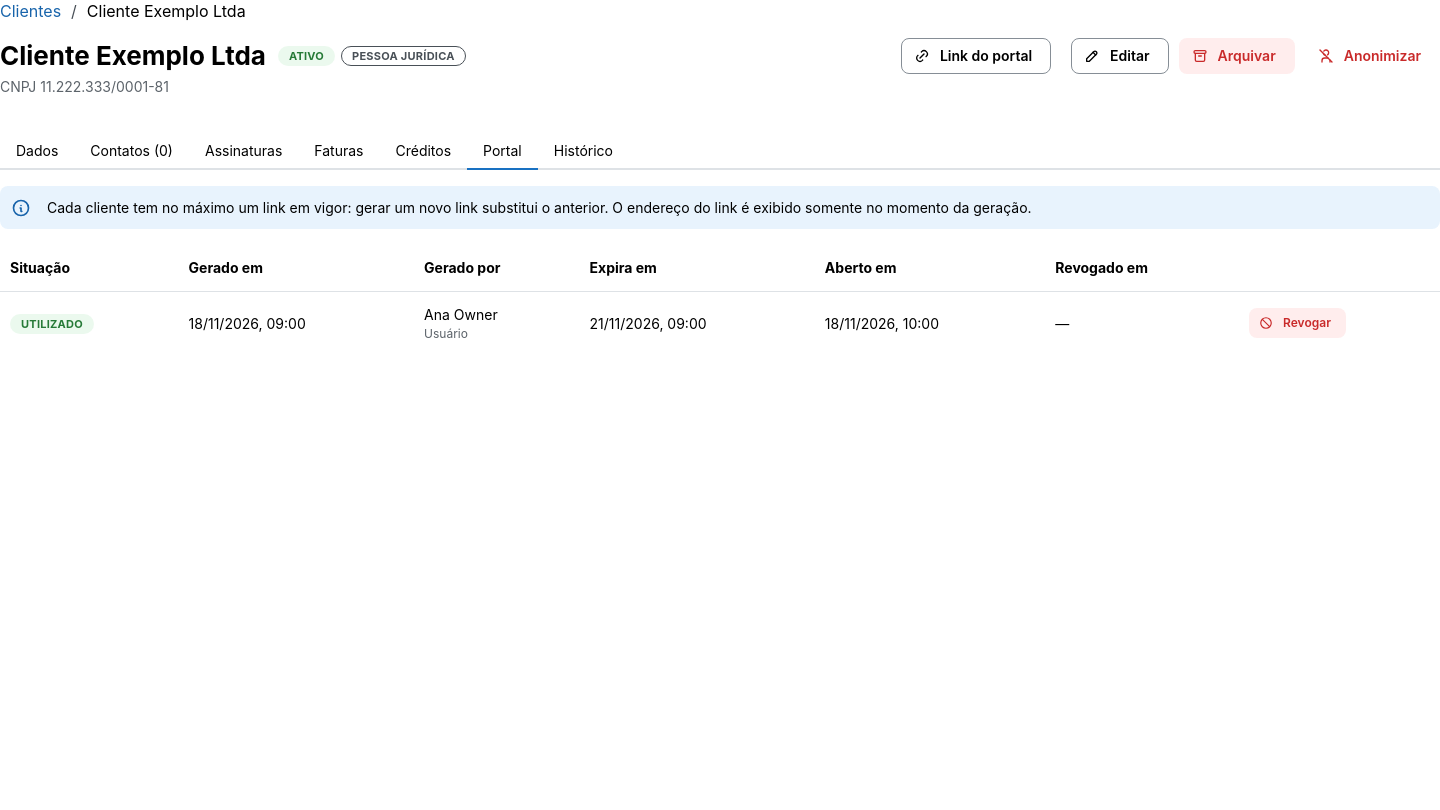
Test: links do portal na ficha do cliente › revoga somente depois da confirmação e recarrega a lista
Note: Cancelar a confirmação não envia nada.
Click the button "Revogar".
click(1297, 323)  # box left=1249, top=308, right=1346, bottom=338
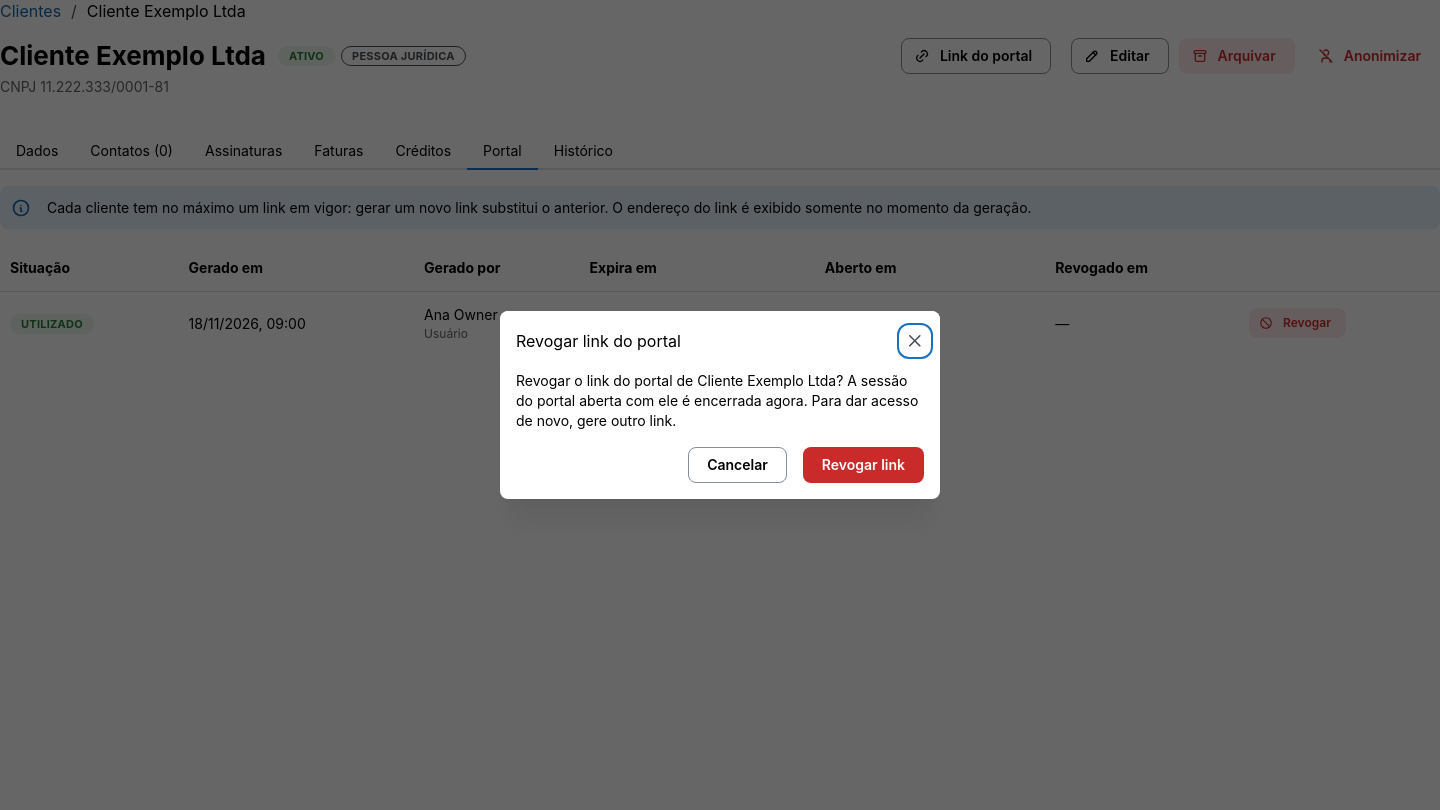
Expected: the dialog "Revogar link do portal" shows "A sessão do portal aberta com ele é encerrada agora", left=516, top=372, right=918, bottom=429
Click the button "Cancelar".
click(738, 465)  # box left=688, top=447, right=787, bottom=483
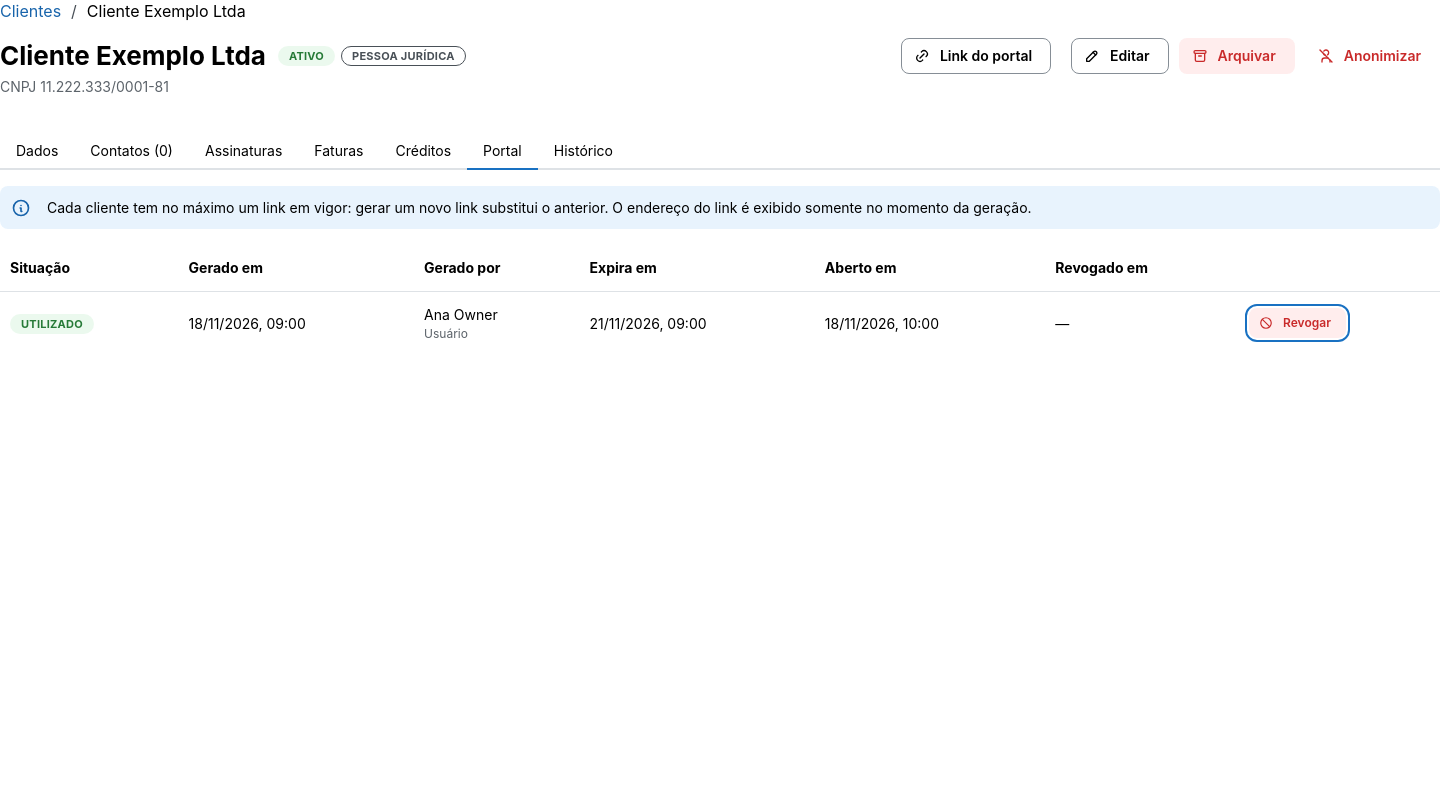
Expected: the heading "Revogar link do portal" is gone
Click the button "Revogar".
click(1297, 323)  # box left=1249, top=308, right=1346, bottom=338
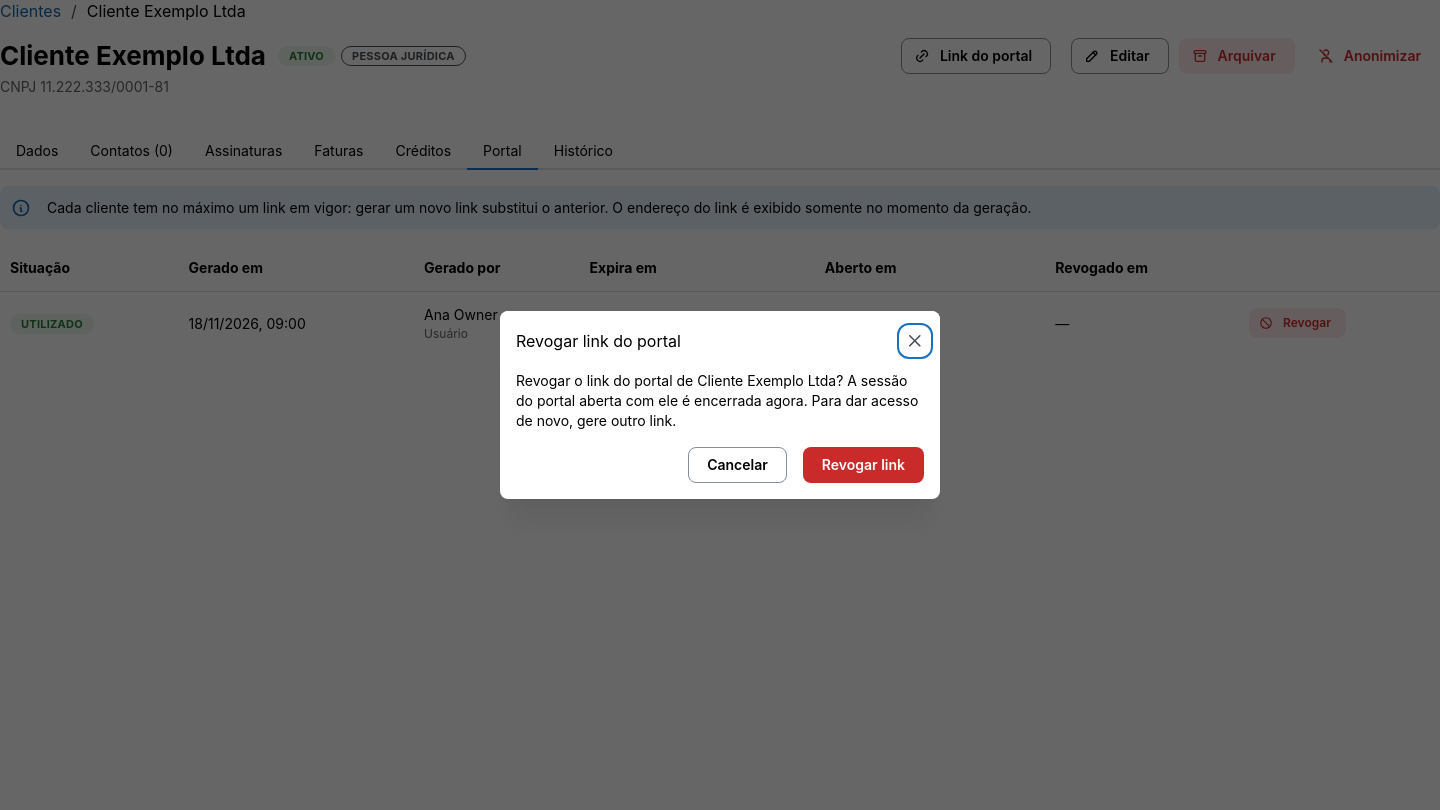
Click the button "Revogar link".
click(863, 465)  # box left=803, top=447, right=924, bottom=483
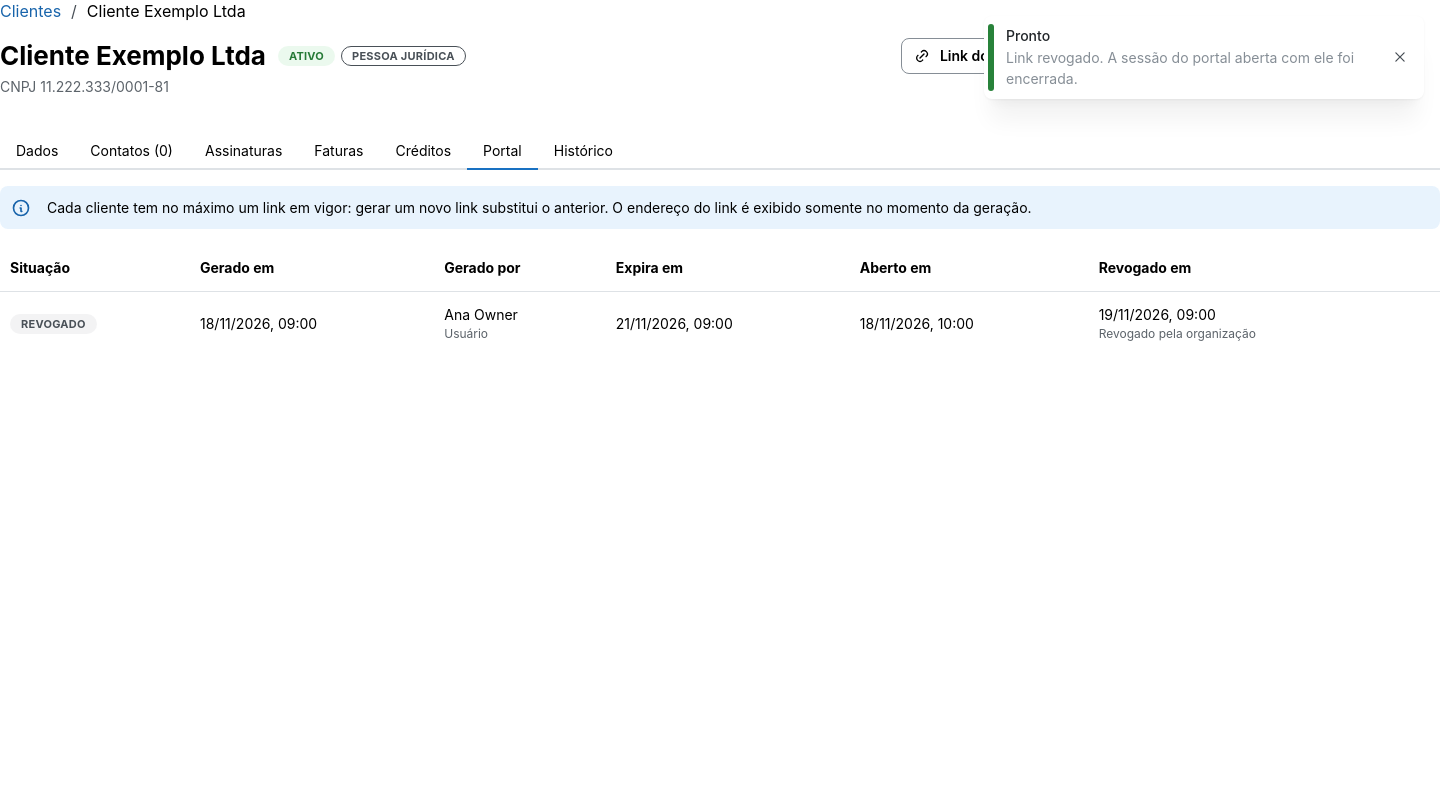
Expected: the text "Link revogado. A sessão do portal aberta com ele foi encerrada." is shown, left=1006, top=48, right=1376, bottom=89
Expected: the text "Revogado pela organização" is shown, left=1099, top=326, right=1256, bottom=341
Expected: the heading "Revogar" is gone
